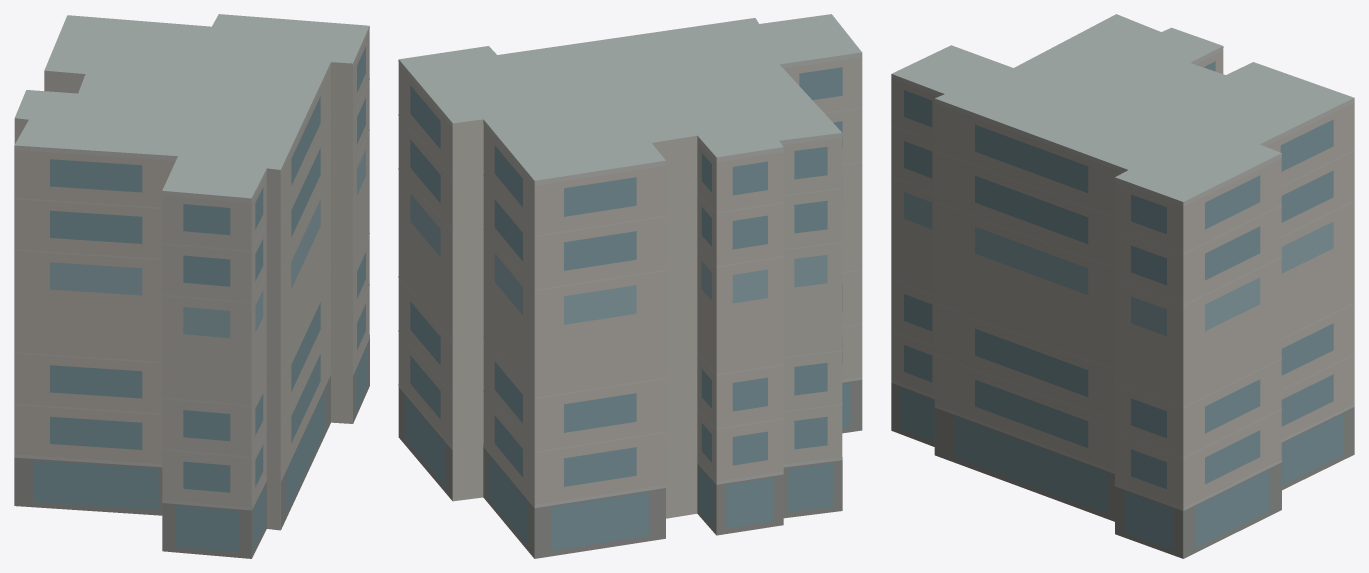
Rendered from survey-upis-33033254.glb.
The picture shows the model from 3 angles, left to right: view 1: azimuth 30°, elevation 25°; view 2: azimuth 150°, elevation 25°; view 3: azimuth 270°, elevation 25°; orthographic projection. The views are drawn at different scales.
Parts seen in each view (by area): view 1: survey-upis-33033254.tmp; view 2: survey-upis-33033254.tmp; view 3: survey-upis-33033254.tmp.
Boxes of the visible parts, box(x1,y1,x2,y2) form: survey-upis-33033254.tmp: box(14, 14, 369, 558); survey-upis-33033254.tmp: box(398, 14, 862, 558); survey-upis-33033254.tmp: box(891, 14, 1354, 558).
Size of the model in its own units: 21.38 by 18.9 by 22.24.
